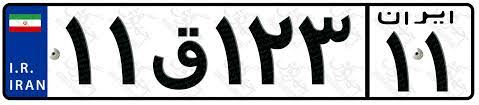character: (297, 9, 356, 91), (144, 22, 211, 91), (246, 9, 296, 90), (97, 12, 143, 87), (57, 12, 98, 88), (416, 26, 459, 95), (208, 13, 247, 89), (383, 28, 416, 93)
